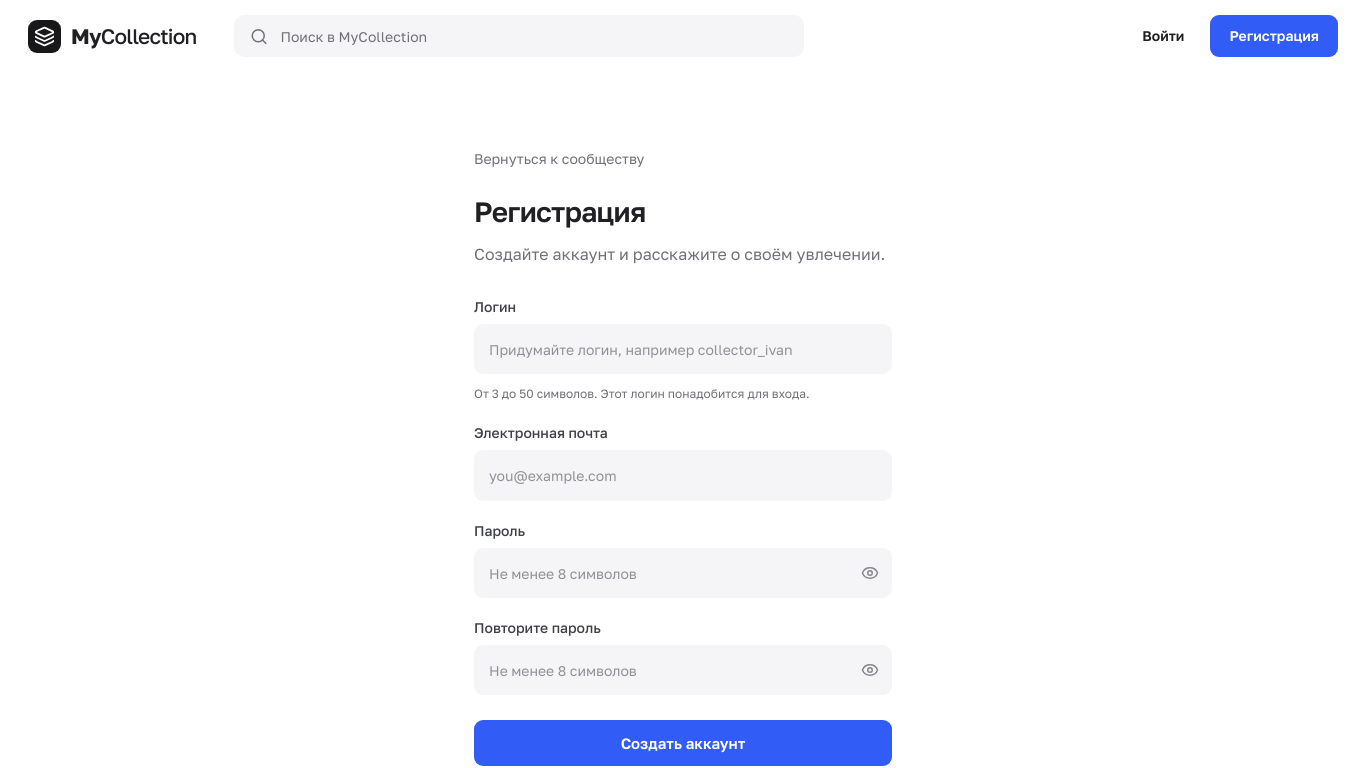
Test: MyCollection account flow › recovers from successful registration followed by a failed automatic login without registering twice
Type "collector@example.test" into the field labelled "Электронная почта" at (683, 475), box [474, 450, 892, 501]
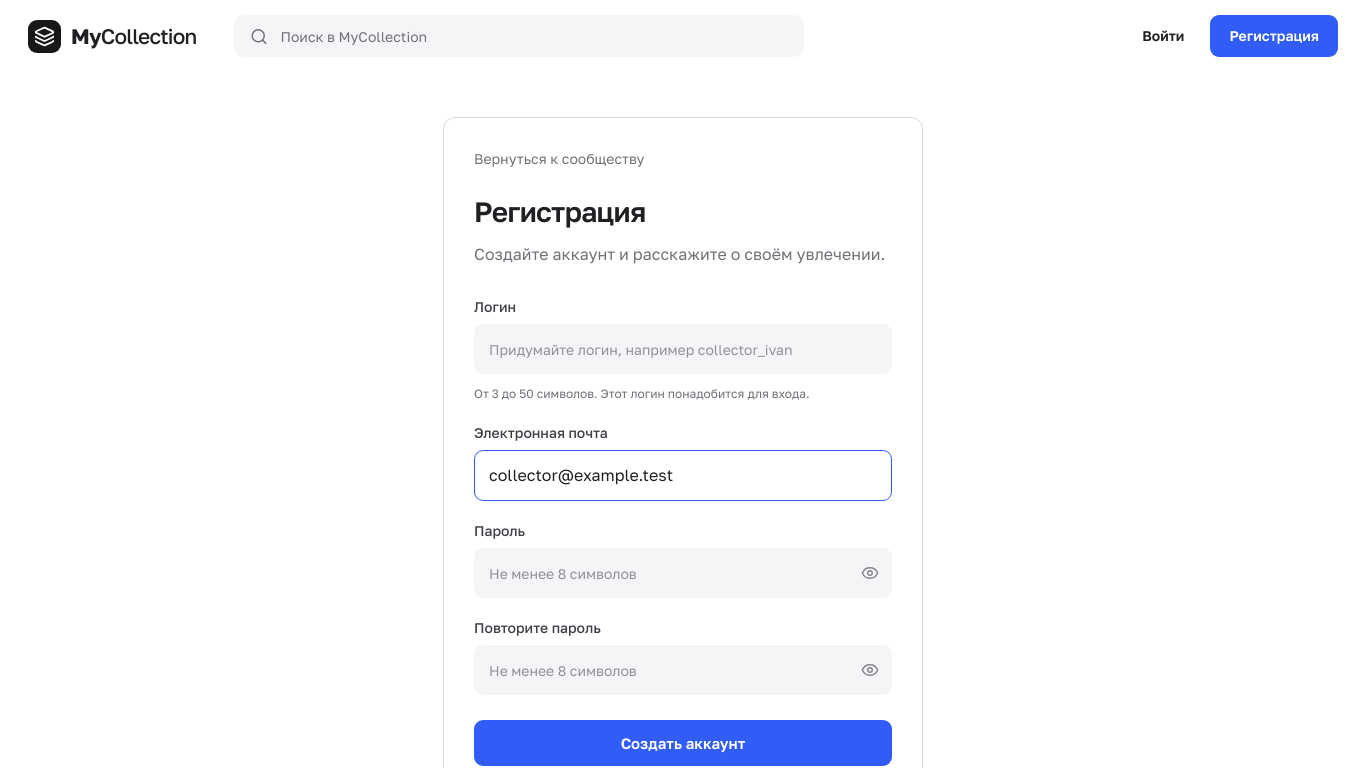
Type "collector" into the field labelled "Логин" at (683, 349), box [474, 324, 892, 374]
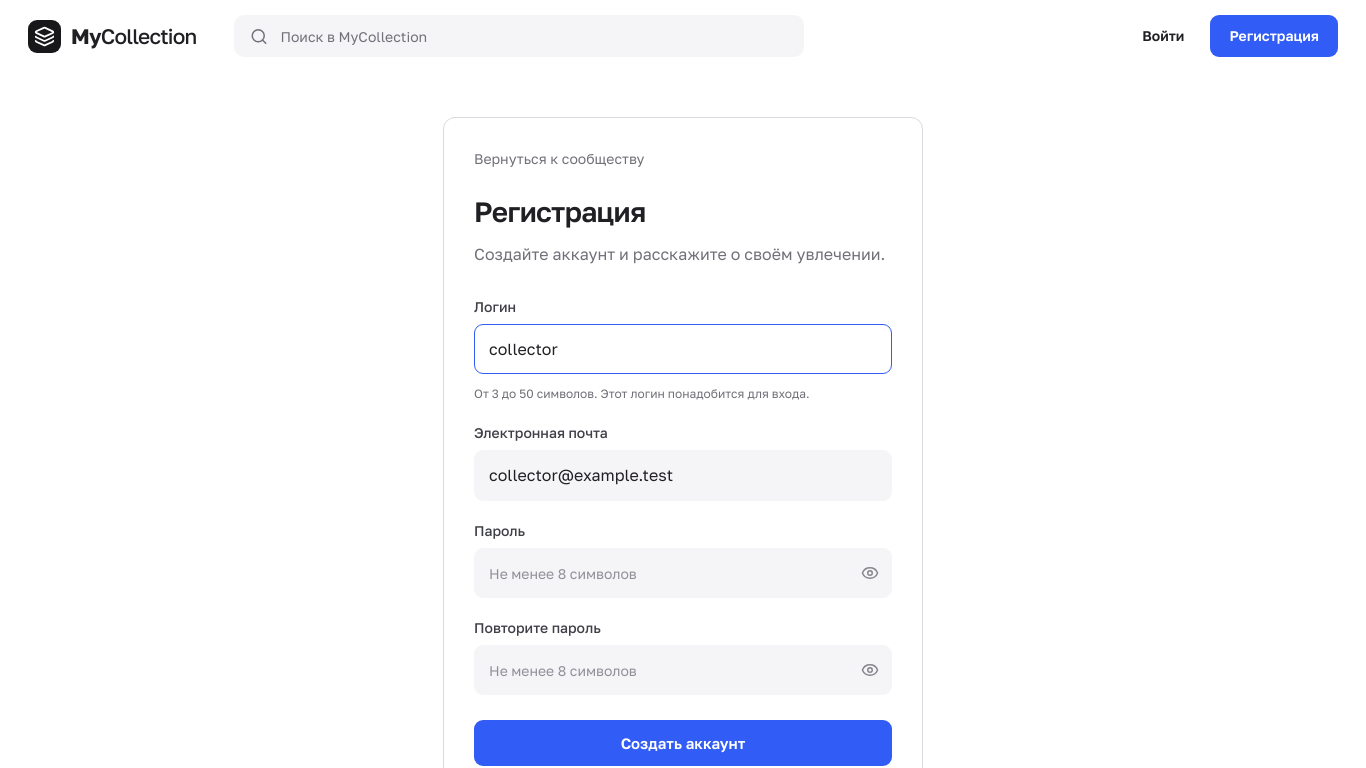
Type "password123" into the password field labelled "Пароль" at (683, 573), box [474, 548, 892, 598]
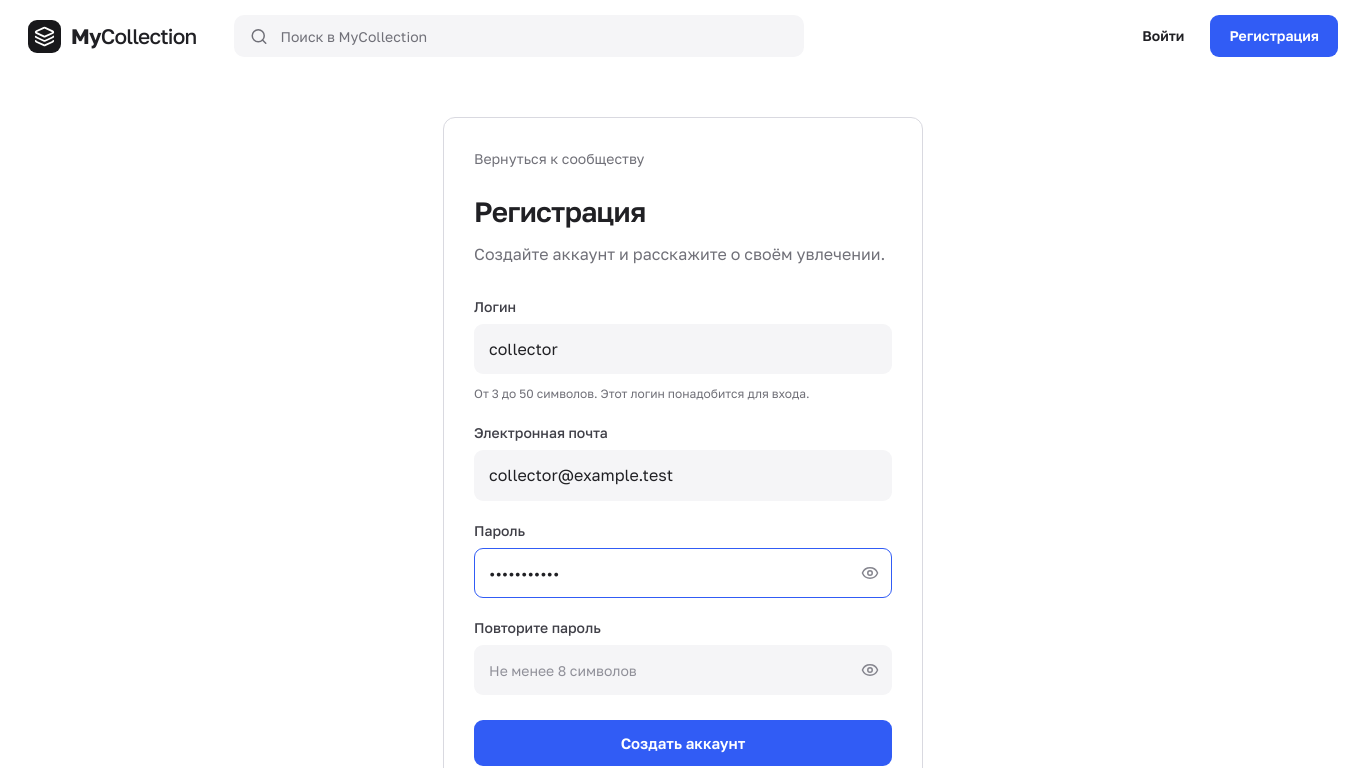
Type "password123" into the password field labelled "Повторите пароль" at (683, 670), box [474, 645, 892, 695]
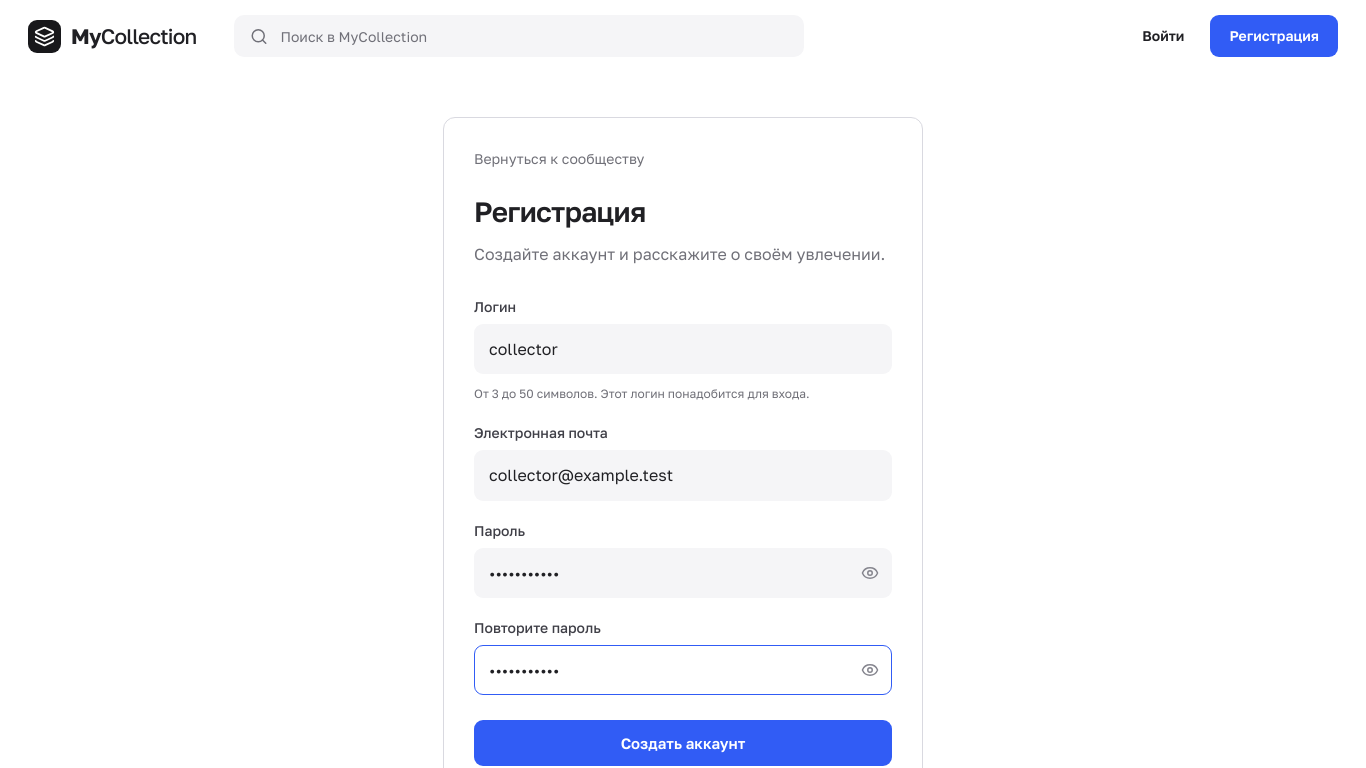
Click the button "Создать аккаунт" at (683, 743), box [474, 720, 892, 766]
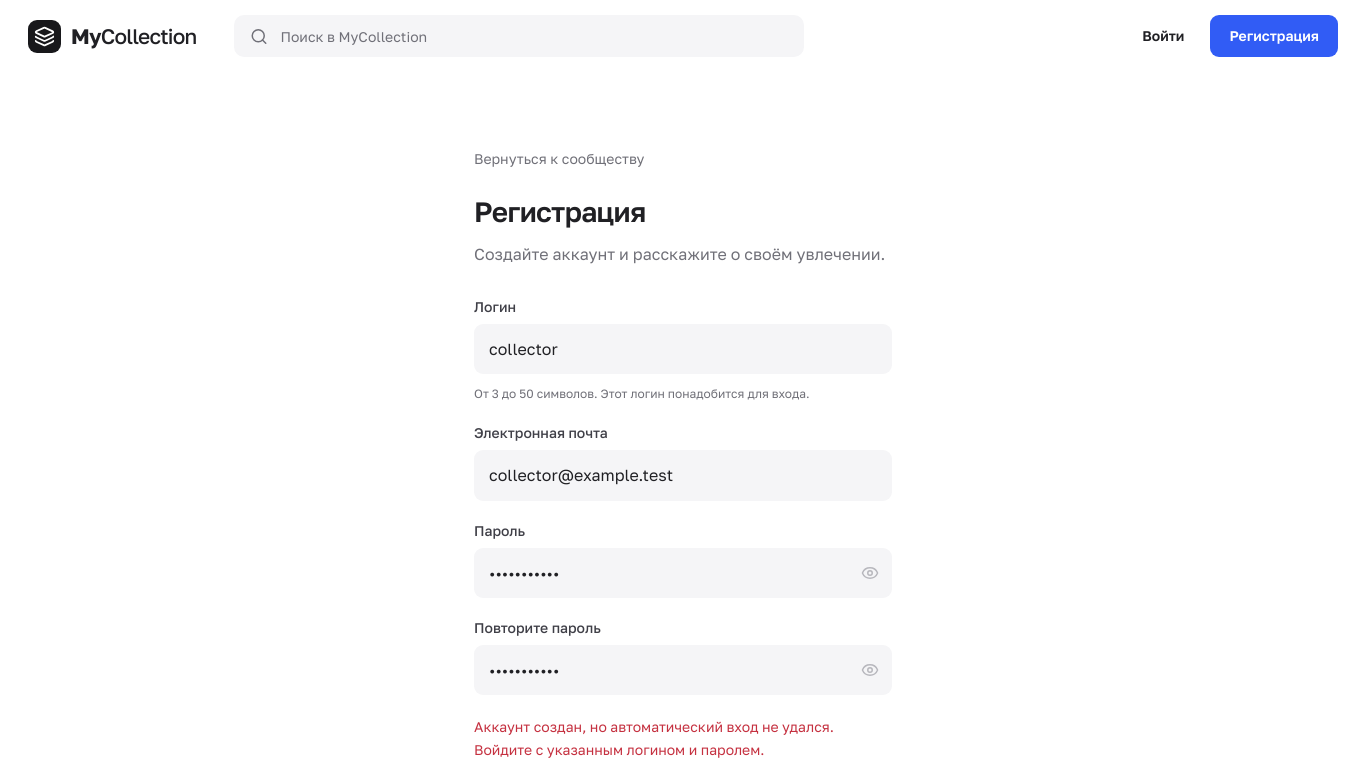
Result: the message shows "Аккаунт создан" at [474, 718, 834, 758]
